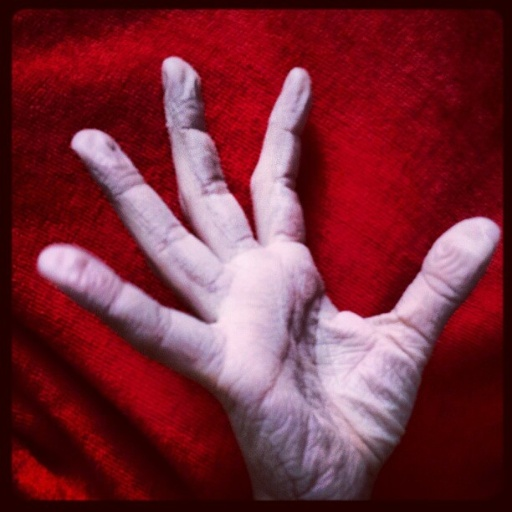hand: (34, 55, 499, 501)
